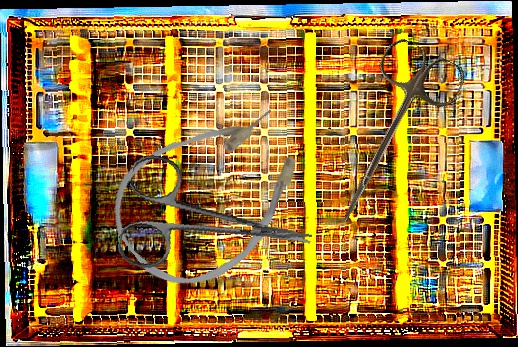Cannula: (91, 81, 333, 310)
Iris Scissors: (310, 34, 470, 242), (115, 152, 321, 298)
